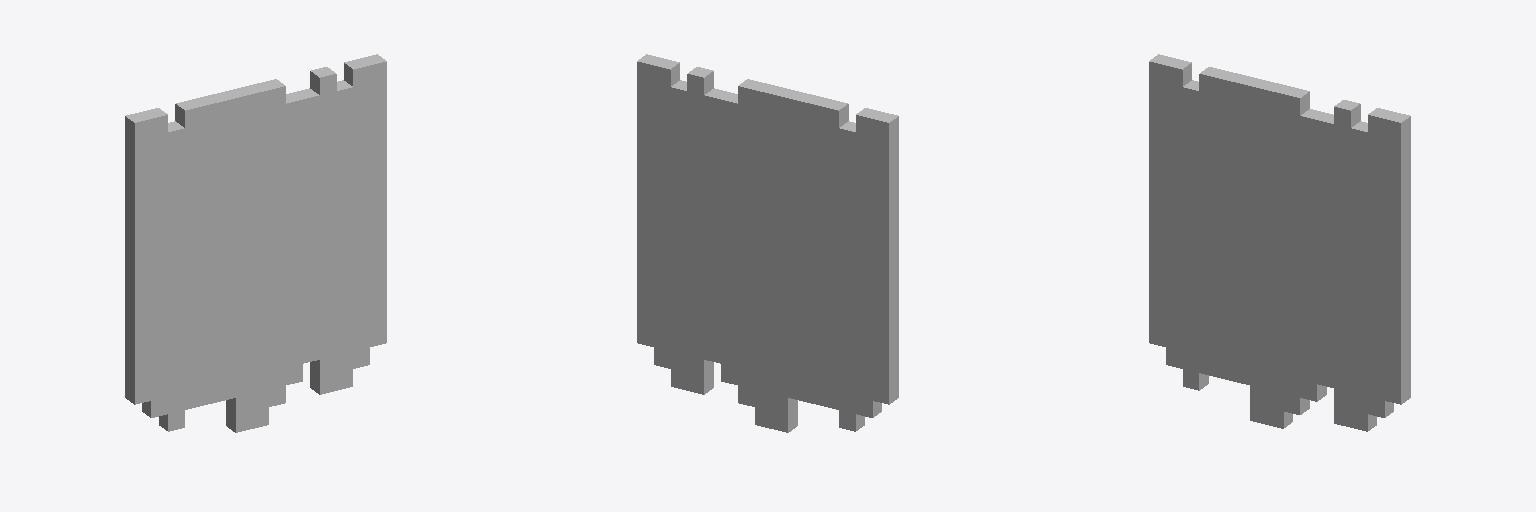
File: Paper.obj
3 views of the same model, side by side, from view 1: azimuth 30°, elevation 25°; view 2: azimuth 150°, elevation 25°; view 3: azimuth 330°, elevation 25° (orthographic).
Visible parts, largest first — view 1: Paper; view 2: Paper; view 3: Paper.
Part boxes in pixels (left/top/right/bottom): Paper: left=125, top=54, right=386, bottom=432; Paper: left=637, top=54, right=898, bottom=432; Paper: left=1149, top=54, right=1410, bottom=431.
Size of the model in its own units: 15 by 19 by 1.